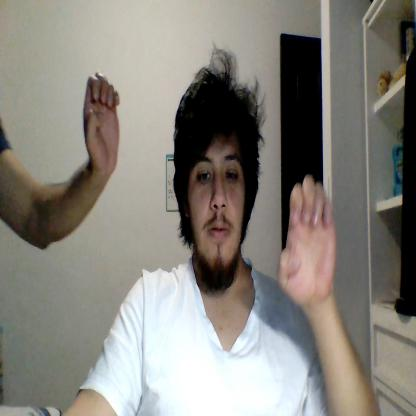E: (279, 175, 336, 304), (83, 72, 120, 174)
